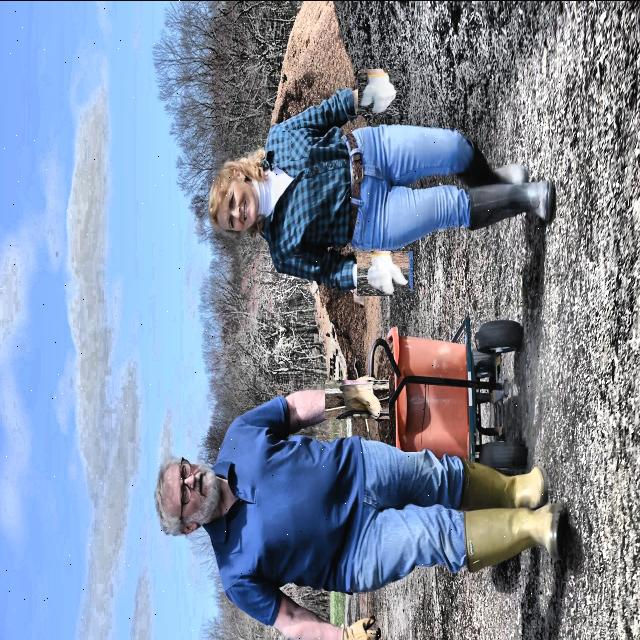gloved: (332, 596, 394, 640), (331, 373, 383, 425), (360, 248, 410, 298), (357, 68, 402, 114)
